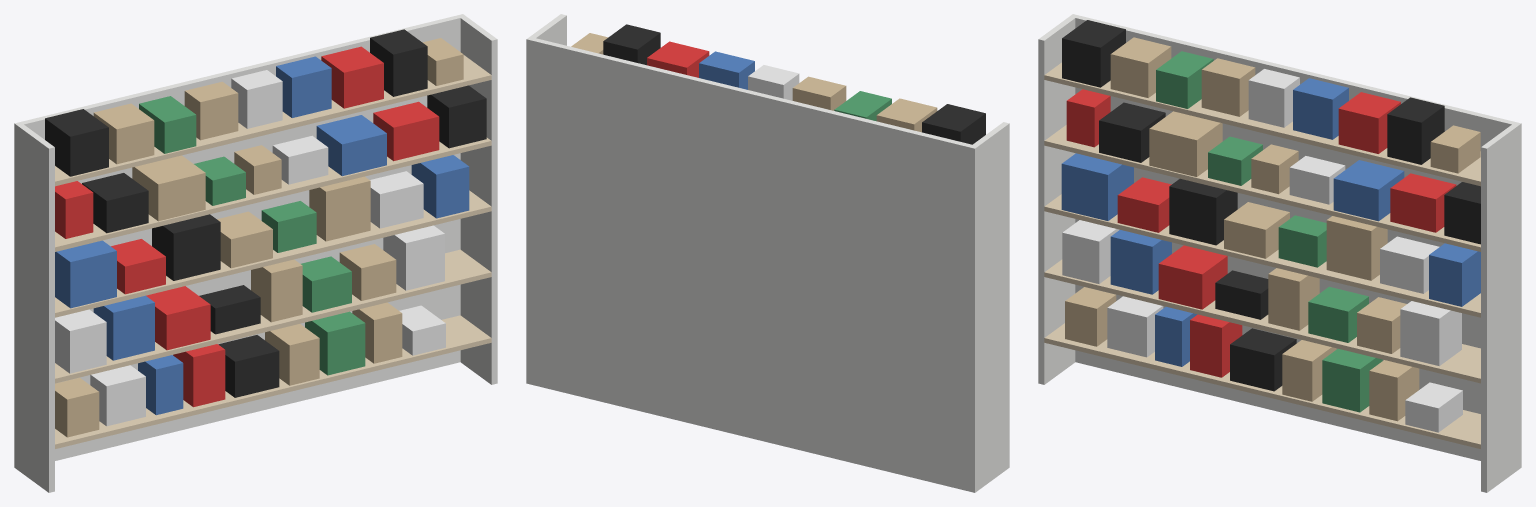
File: gen_shelf_wall_3m.glb
The picture shows the model from 3 angles, left to right: view 1: azimuth 30°, elevation 25°; view 2: azimuth 150°, elevation 25°; view 3: azimuth 330°, elevation 25°; orthographic projection.
Visible parts, largest first — view 1: products, gen_shelf_wall_3m; view 2: gen_shelf_wall_3m, products; view 3: products, gen_shelf_wall_3m.
Part boxes in pixels (x1=…): products: x1=45, y1=29, x2=486, y2=437; gen_shelf_wall_3m: x1=14, y1=14, x2=497, y2=492; gen_shelf_wall_3m: x1=526, y1=14, x2=1009, y2=492; products: x1=571, y1=24, x2=985, y2=144; products: x1=1061, y1=20, x2=1480, y2=432; gen_shelf_wall_3m: x1=1038, y1=14, x2=1521, y2=492.
Size of the model in its own units: 3 by 2.25 by 0.4.
